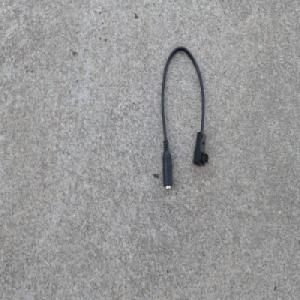Wire: (159, 43, 209, 192)
